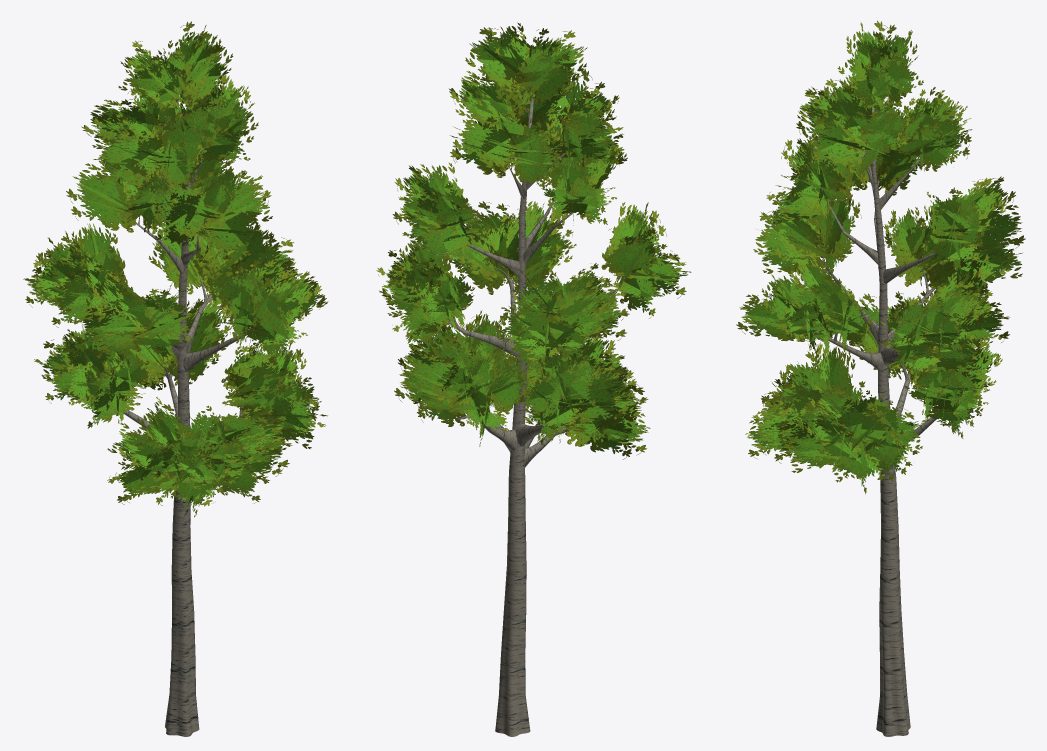
Rendered from SM_Tree02.fbx.
3 renders of one model, left to right at view 1: azimuth 30°, elevation 25°; view 2: azimuth 150°, elevation 25°; view 3: azimuth 270°, elevation 25°, orthographic.
Visible parts, largest first — view 1: SM_Tree02_LOD0; view 2: SM_Tree02_LOD0; view 3: SM_Tree02_LOD0.
Part boxes in pixels (x1,y1,x2,y2): SM_Tree02_LOD0: [23, 21, 328, 736]; SM_Tree02_LOD0: [376, 22, 691, 736]; SM_Tree02_LOD0: [736, 20, 1025, 736].
Bounding box in the file's own units: 264 × 255 × 650.
Materials: 2 (2 with a texture image).
